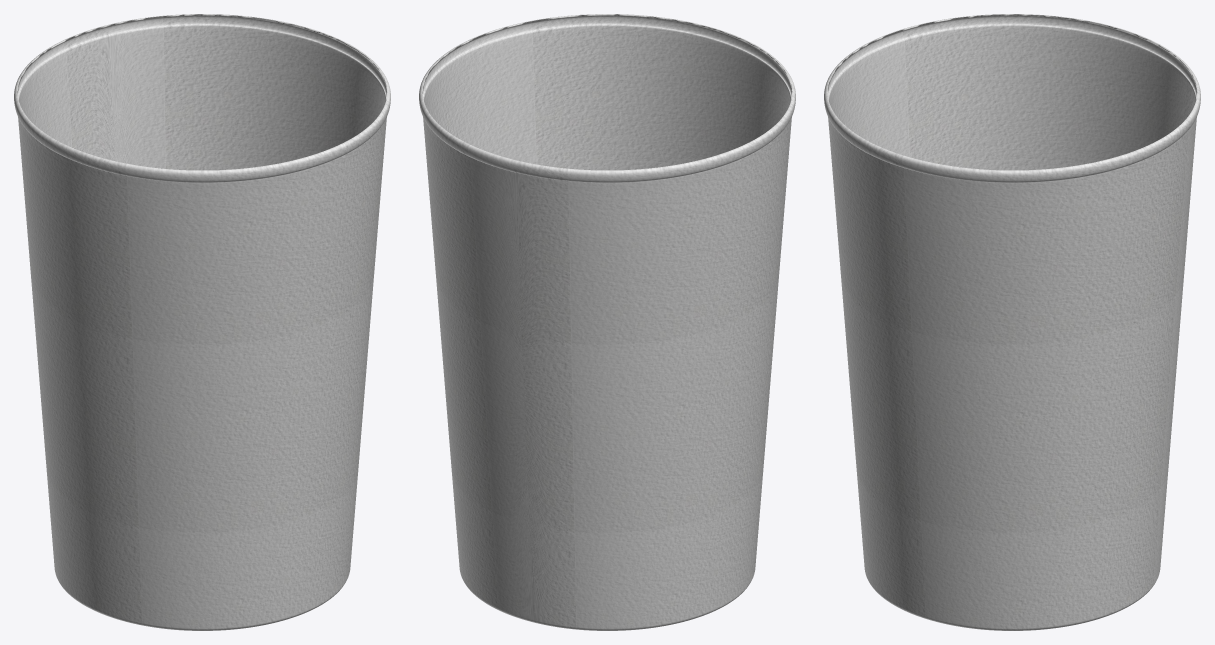
Rendered from Cup.fbx.
3 renders of one model, left to right at view 1: azimuth 30°, elevation 25°; view 2: azimuth 150°, elevation 25°; view 3: azimuth 270°, elevation 25°, orthographic.
Parts seen in each view (by area): view 1: Papper Cup 14 OZ; view 2: Papper Cup 14 OZ; view 3: Papper Cup 14 OZ.
Boxes of the visible parts, x1=… form: Papper Cup 14 OZ: x1=14, y1=14, x2=390, y2=630; Papper Cup 14 OZ: x1=419, y1=14, x2=795, y2=630; Papper Cup 14 OZ: x1=824, y1=14, x2=1200, y2=630.
Size of the model in its own units: 207 by 289 by 207.
